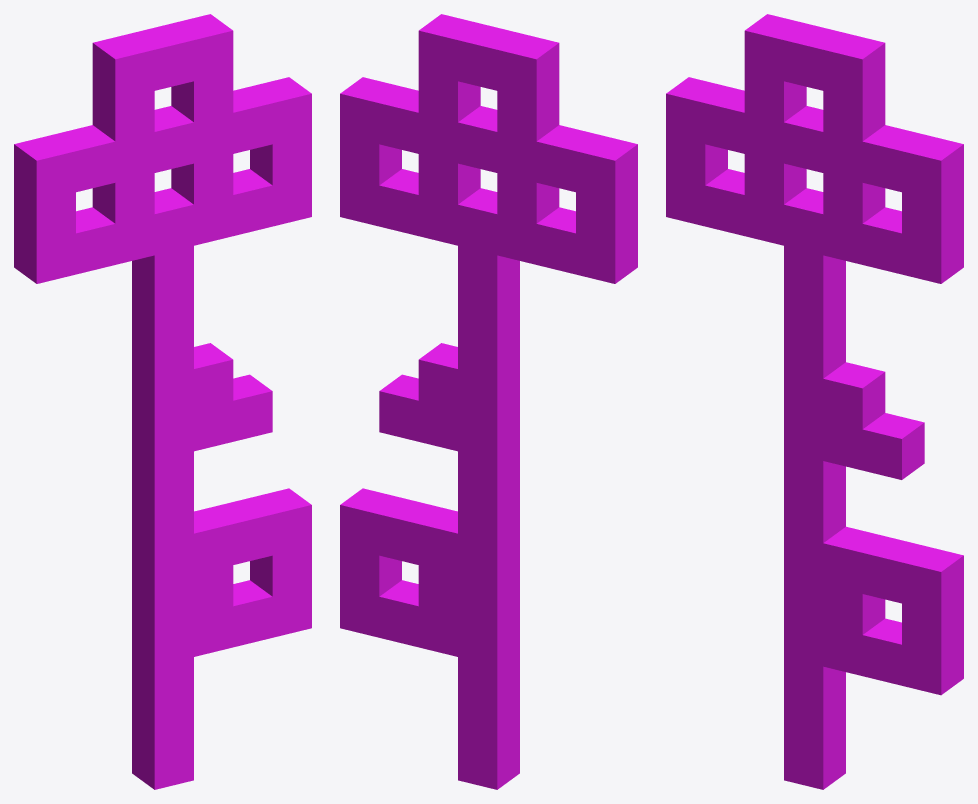
File: Key.vox-1.obj
The picture shows the model from 3 angles, left to right: view 1: azimuth 30°, elevation 25°; view 2: azimuth 150°, elevation 25°; view 3: azimuth 330°, elevation 25°; orthographic projection.
Bounding box in the file's own units: 0.7 × 1.8 × 0.1.
Materials: 1 (1 with a texture image).
